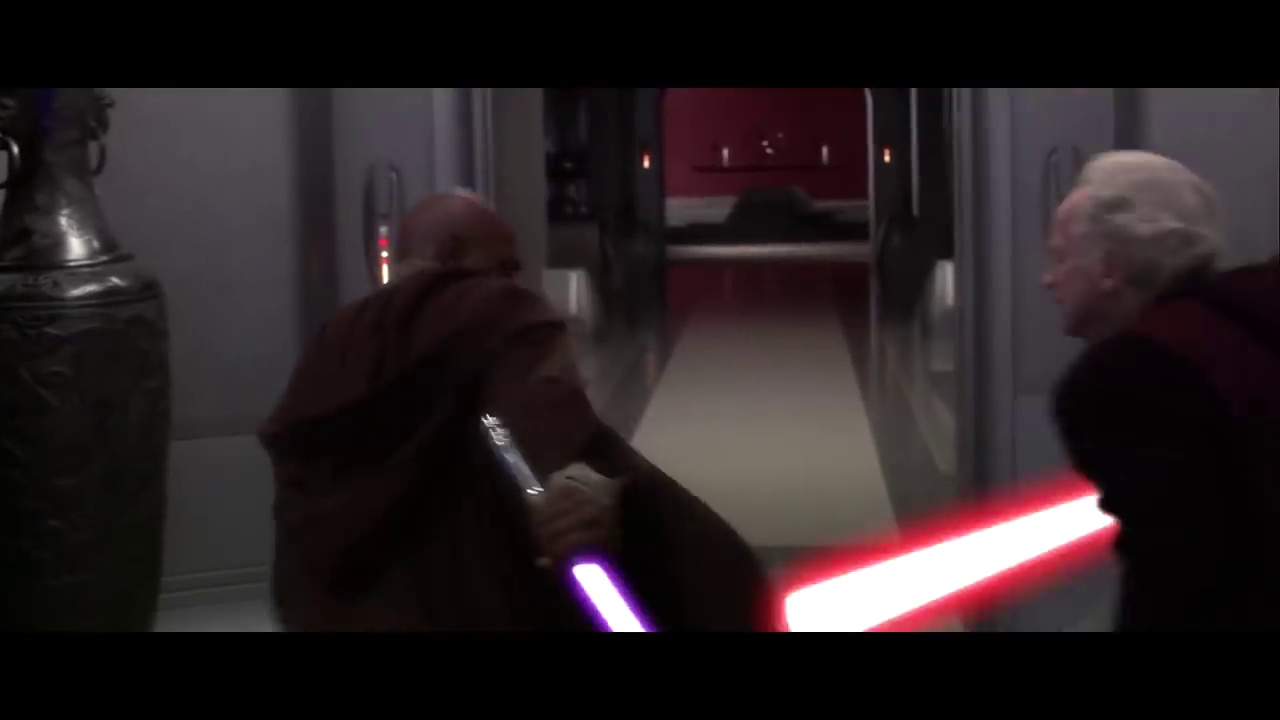lightsaber: (771, 447, 1136, 631)
